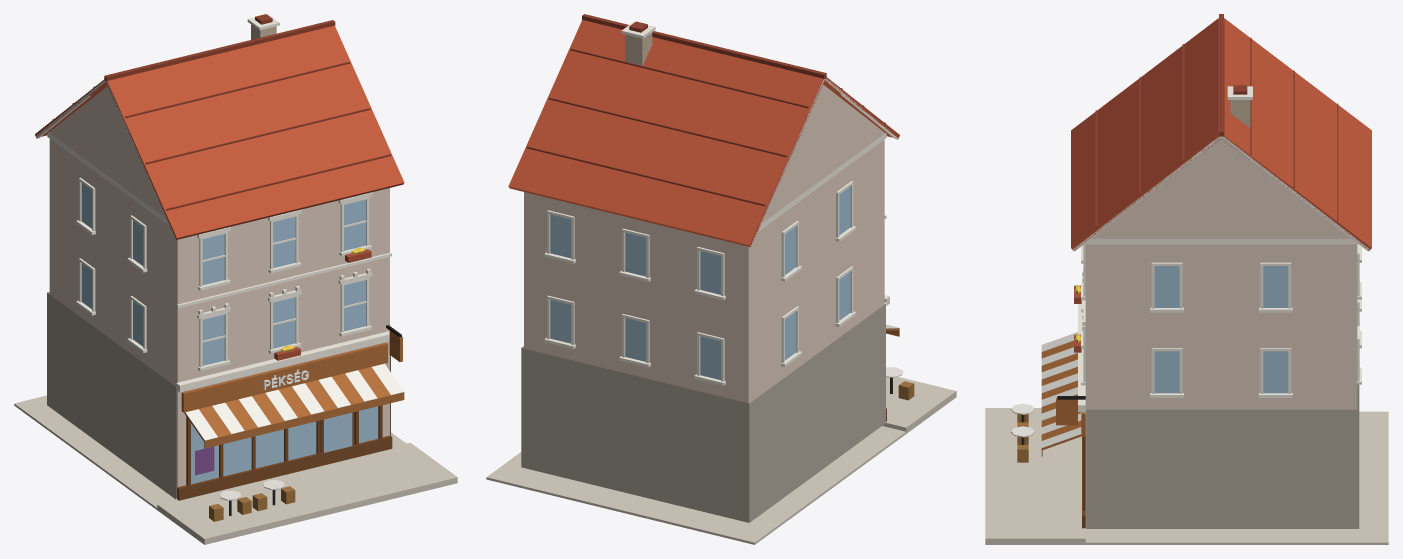
The model's file is Dukkan_genel_pekseg_Hafif.fbx.
The picture shows the model from 3 angles, left to right: view 1: azimuth 30°, elevation 25°; view 2: azimuth 150°, elevation 25°; view 3: azimuth 270°, elevation 25°; orthographic projection. The views are drawn at different scales.
Parts seen in each view (by area): view 1: Dukkan_genel_pekseg_Hafif; view 2: Dukkan_genel_pekseg_Hafif; view 3: Dukkan_genel_pekseg_Hafif.
Boxes of the visible parts, left/top/right/bottom form: Dukkan_genel_pekseg_Hafif: left=14, top=14, right=457, bottom=544; Dukkan_genel_pekseg_Hafif: left=486, top=14, right=956, bottom=544; Dukkan_genel_pekseg_Hafif: left=985, top=14, right=1388, bottom=544.
Size of the model in its own units: 9.87 by 14.73 by 12.86.
